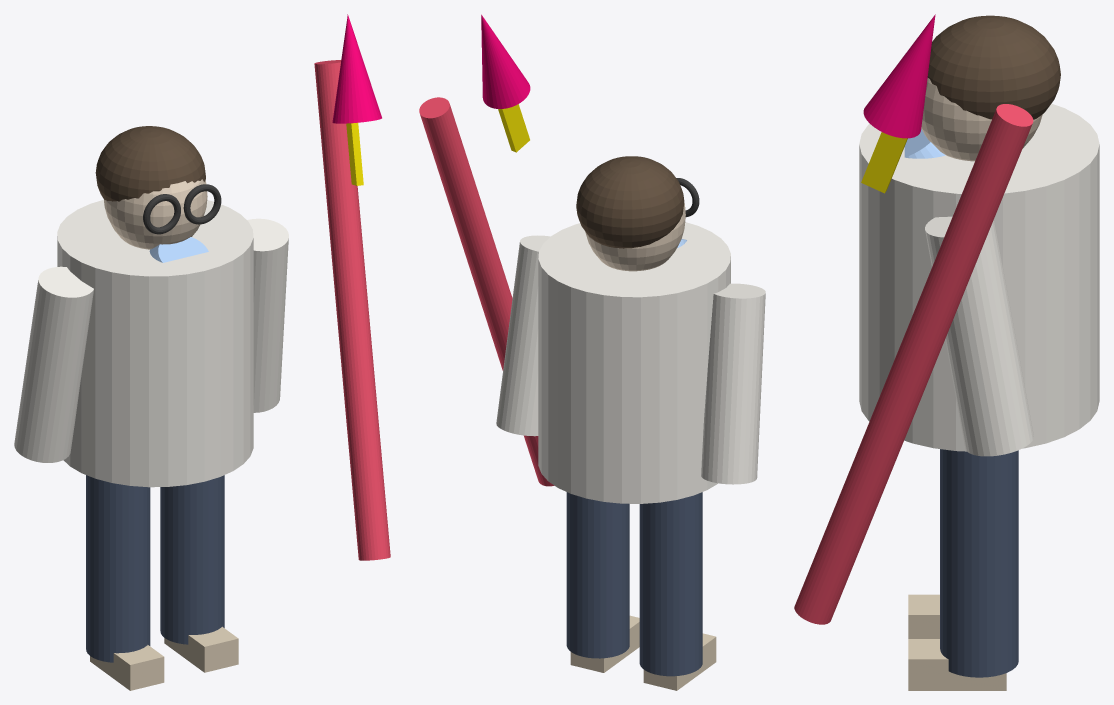
The model's file is prof_boss.glb.
3 views of the same model, side by side, from view 1: azimuth 30°, elevation 25°; view 2: azimuth 150°, elevation 25°; view 3: azimuth 270°, elevation 25° (orthographic). The views are drawn at different scales.
Parts seen in each view (by area): view 1: Prof_Torso, Prof_ColossalPen, Prof_LegL, Prof_ArmL, Prof_LegR, Prof_Hair, Prof_ArmR, Prof_Head, Prof_PenNib, Prof_ShoeL, Prof_ShoeR, Prof_Collar (+3 smaller); view 2: Prof_Torso, Prof_LegL, Prof_ArmL, Prof_LegR, Prof_ColossalPen, Prof_Hair, Prof_ArmR, Prof_PenNib, Prof_Head, Prof_ShoeL, Prof_ShoeR, Cube; view 3: Prof_Torso, Prof_ColossalPen, Prof_LegR, Prof_ArmR, Prof_Hair, Prof_PenNib, Prof_Head, Prof_ShoeR, Cube, Prof_ShoeL, Prof_Collar.
Part boxes in pixels (bbox=[...]): Prof_Torso: bbox=[57, 199, 253, 487]; Prof_ColossalPen: bbox=[314, 60, 390, 560]; Prof_LegL: bbox=[86, 475, 150, 662]; Prof_ArmL: bbox=[14, 266, 93, 462]; Prof_LegR: bbox=[160, 475, 224, 644]; Prof_Hair: bbox=[95, 126, 205, 201]; Prof_ArmR: bbox=[247, 218, 288, 412]; Prof_Head: bbox=[104, 179, 207, 249]; Prof_PenNib: bbox=[332, 14, 381, 123]; Prof_ShoeL: bbox=[90, 645, 164, 690]; Prof_ShoeR: bbox=[164, 626, 238, 672]; Prof_Collar: bbox=[149, 237, 208, 262]; Prof_Torso: bbox=[538, 222, 730, 503]; Prof_LegL: bbox=[639, 492, 702, 676]; Prof_ArmL: bbox=[701, 283, 765, 484]; Prof_LegR: bbox=[566, 492, 629, 658]; Prof_ColossalPen: bbox=[419, 97, 554, 486]; Prof_Hair: bbox=[576, 156, 684, 248]; Prof_ArmR: bbox=[496, 235, 550, 436]; Prof_PenNib: bbox=[481, 14, 530, 108]; Prof_Head: bbox=[585, 203, 685, 271]; Prof_ShoeL: bbox=[643, 633, 716, 690]; Prof_ShoeR: bbox=[570, 615, 639, 672]; Cube: bbox=[498, 104, 529, 152]; Prof_Torso: bbox=[859, 103, 1099, 451]; Prof_ColossalPen: bbox=[794, 104, 1033, 624]; Prof_LegR: bbox=[940, 449, 1018, 677]; Prof_ArmR: bbox=[925, 216, 1033, 456]; Prof_Hair: bbox=[927, 15, 1060, 119]; Prof_PenNib: bbox=[863, 14, 935, 138]; Prof_Head: bbox=[921, 78, 1042, 161]; Prof_ShoeR: bbox=[908, 639, 1006, 690]; Cube: bbox=[861, 132, 907, 193]; Prof_ShoeL: bbox=[908, 594, 939, 638]; Prof_Collar: bbox=[904, 129, 945, 158].
Bounding box in the file's own units: 2.15 × 3.78 × 1.4.
